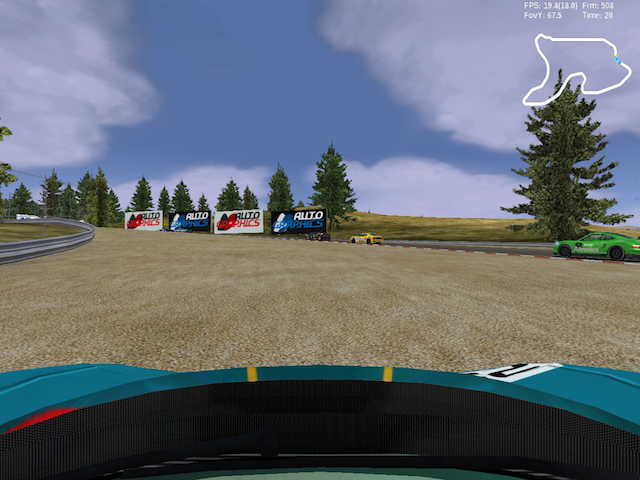Boxer96: (552, 231, 640, 260)
Cavallo360: (349, 233, 384, 245)
Spirit300: (306, 232, 331, 242)
